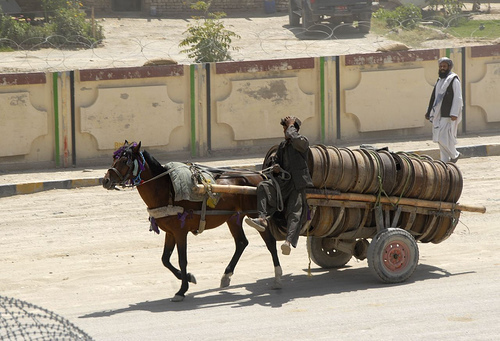horse: (102, 140, 284, 301)
